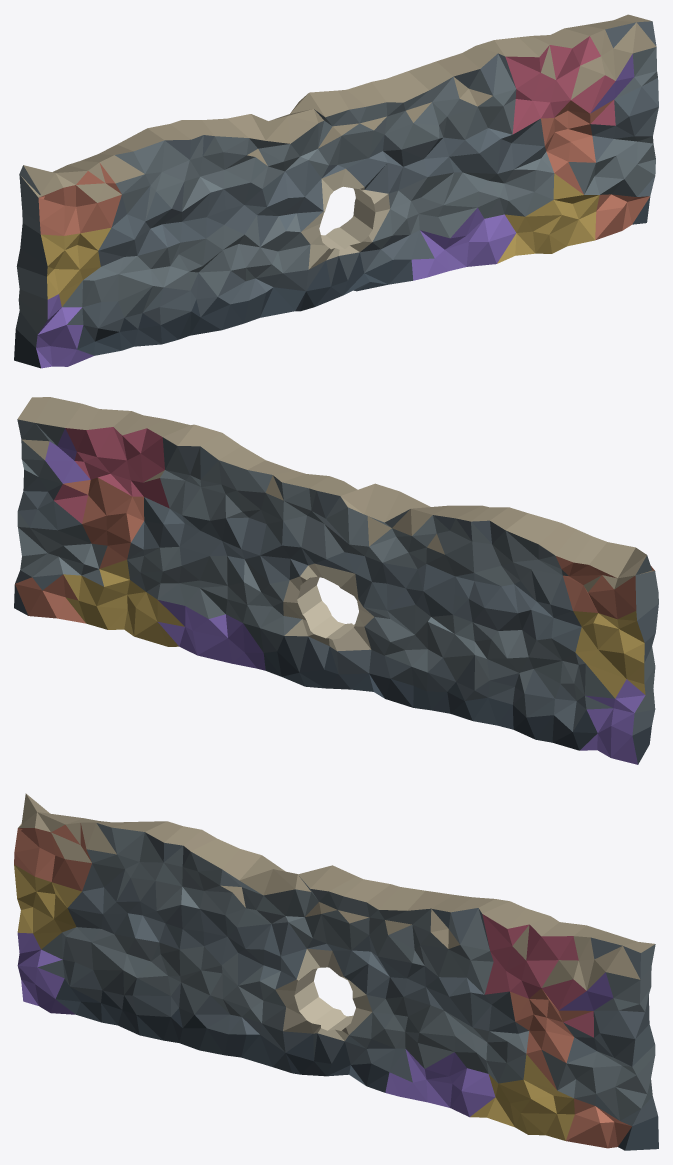
The model's file is Reef_Gate_Mid.glb.
3 renders of one model, top to bottom at view 1: azimuth 30°, elevation 25°; view 2: azimuth 150°, elevation 25°; view 3: azimuth 330°, elevation 25°, orthographic.
Parts seen in each view (by area): view 1: Reef_Gate_Mid; view 2: Reef_Gate_Mid; view 3: Reef_Gate_Mid.
Boxes of the visible parts, left/top/right/bottom form: Reef_Gate_Mid: left=14, top=14, right=658, bottom=368; Reef_Gate_Mid: left=14, top=397, right=658, bottom=764; Reef_Gate_Mid: left=14, top=793, right=658, bottom=1150.
Bounding box in the file's own units: 47.04 × 15.65 × 4.09.
